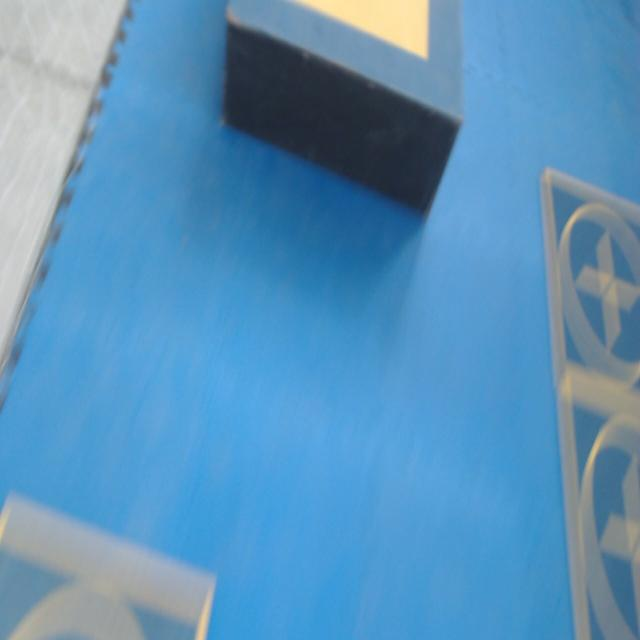base_inicio: (285, 0, 428, 60)
base_pouso: (0, 488, 219, 639), (542, 174, 640, 404), (557, 387, 640, 639)
